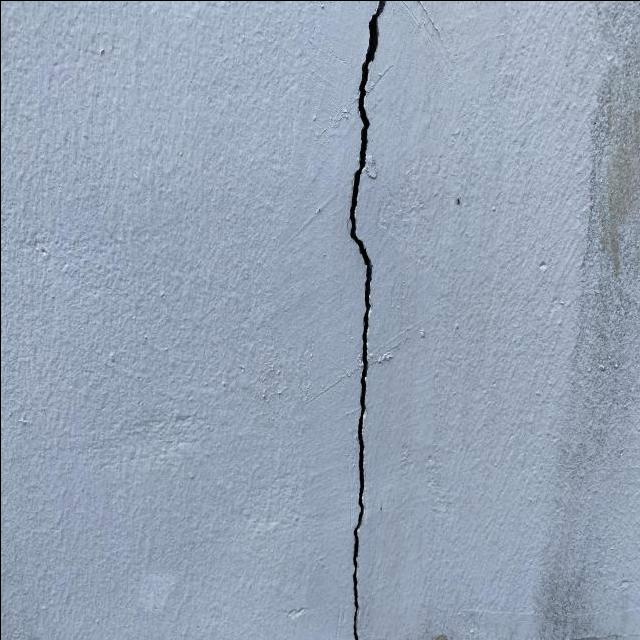SurfaceCrack: (295, 0, 431, 639)
